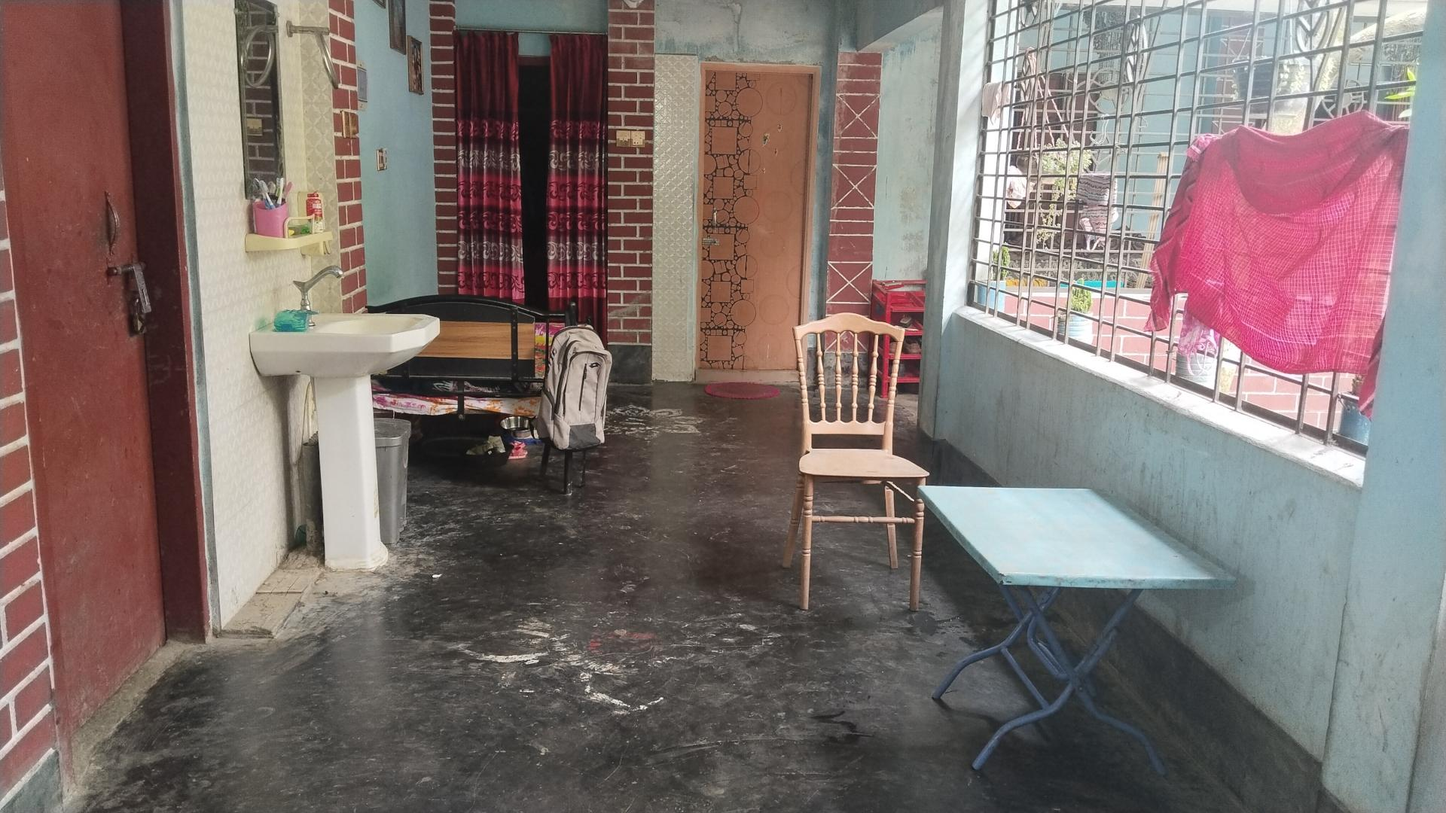Bag: (544, 324, 612, 449)
Chair: (794, 319, 932, 606)
Door: (698, 63, 816, 382)
Table: (924, 487, 1236, 774)
